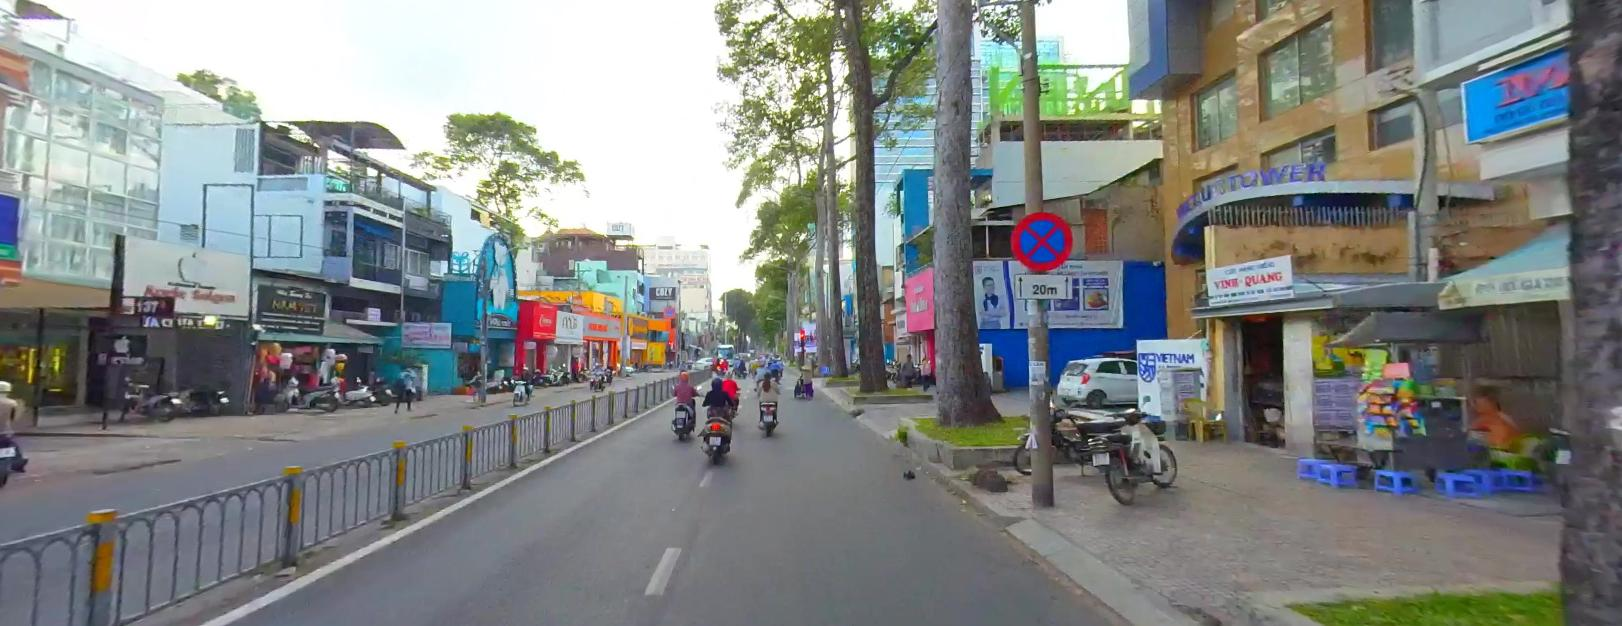Cam dung va do: (1009, 211, 1073, 271)
